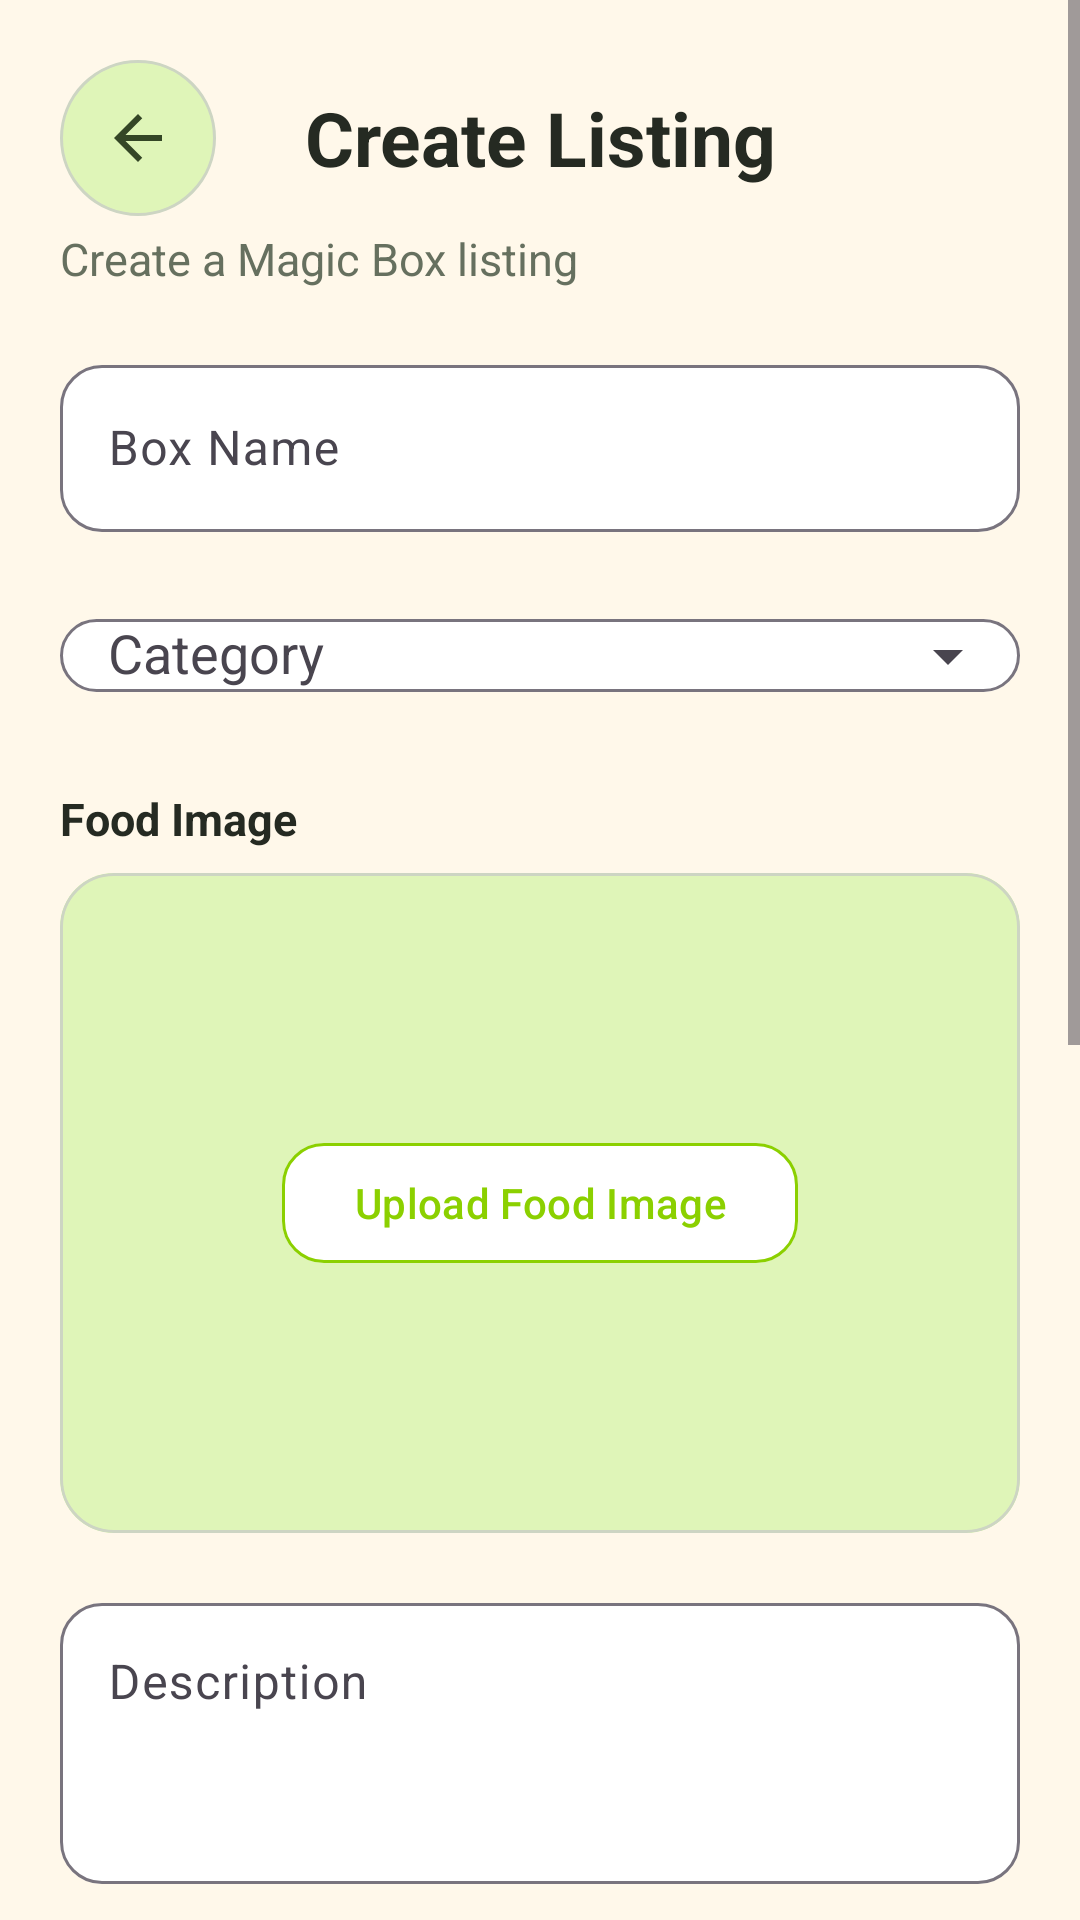

Icon click points for this 1080px×1920px phone screenshot, format point (x, y):
back: point (138, 138)
